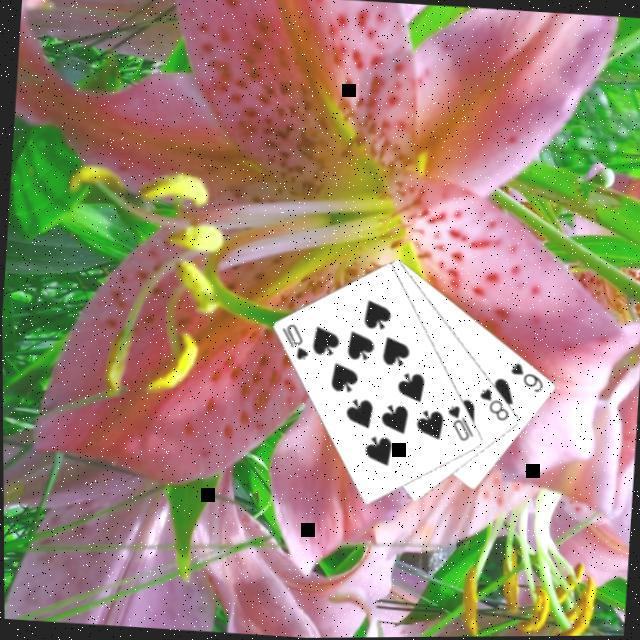10S: (278, 318, 315, 362), (443, 401, 480, 443)
6S: (508, 358, 548, 394)
8S: (476, 382, 514, 422)
